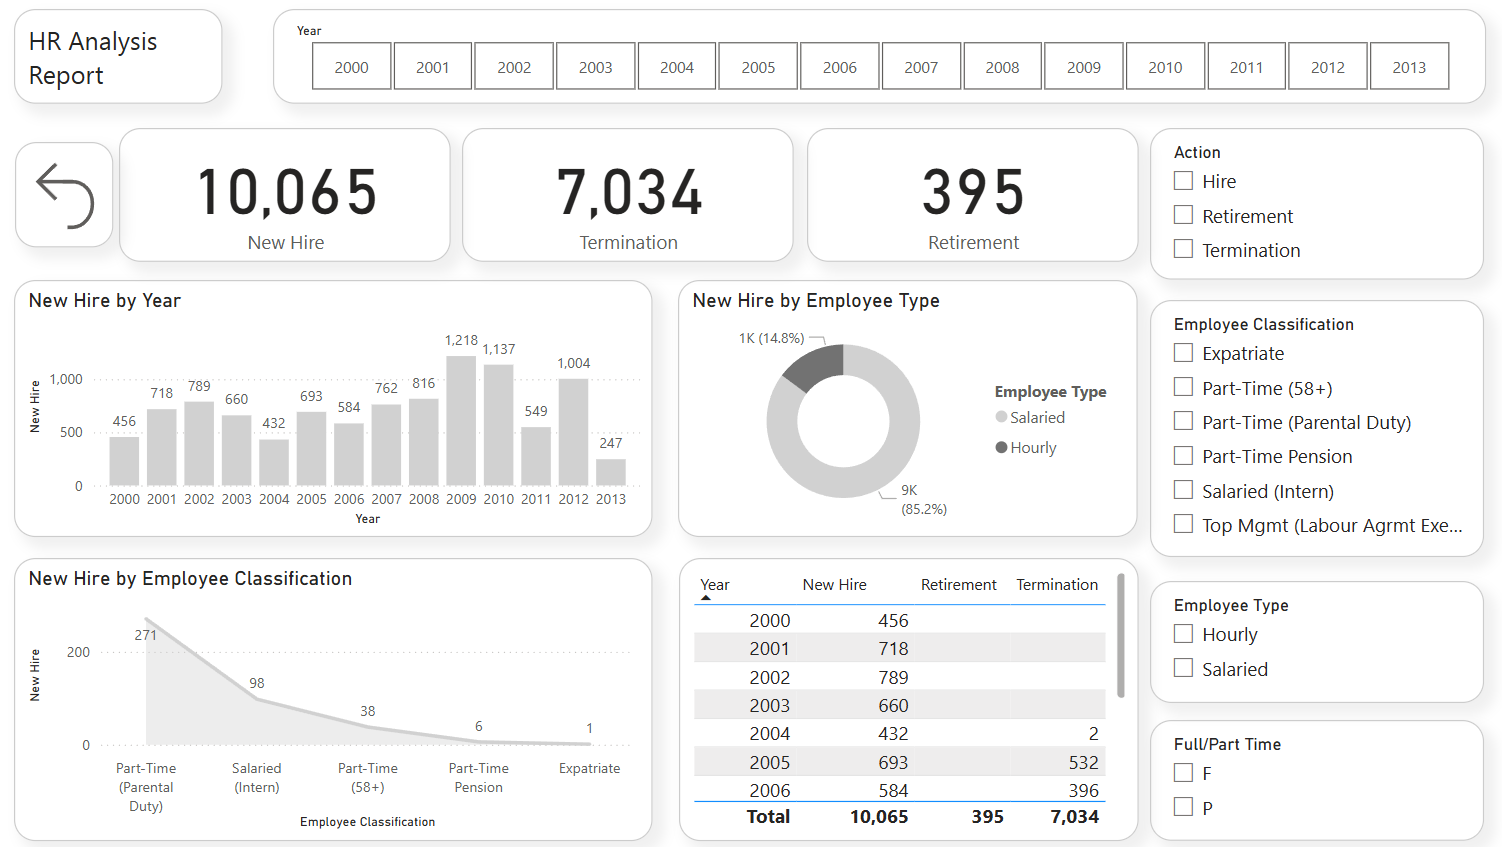

The page's visual inventory and layout, read from the dashboard file:
{"tool":"powerbi","page":{"name":"Summary","canvas":[1280,720],"ordinal":0},"visuals":[{"type":"card","fields":{"Values":["Table.New Hire"]},"box":[110.1,108.7,279.5,112.9],"z":0},{"type":"card","fields":{"Values":["Table.Termination"]},"box":[399.5,108.7,279.5,112.9],"z":1000},{"type":"card","fields":{"Values":["Table.Retirement"]},"box":[690.4,108.7,279.5,112.9],"z":2000},{"type":"slicer","fields":{"Values":["Final_Job.Action"]},"box":[979.8,108.7,282.4,128.5],"z":3000},{"type":"slicer","fields":{"Values":["Final_Job.Employee Classification"]},"box":[979.8,254.1,282.4,217.4],"z":4000},{"type":"slicer","fields":{"Values":["Final_Job.Employee Type"]},"box":[979.8,491.3,282.4,103.1],"z":5000},{"type":"slicer","fields":{"Values":["Final_Job.Full/Part Time"]},"box":[979.8,608.5,282.4,101.6],"z":6000},{"type":"slicer","fields":{"Values":["Final_Job.Effective Date.Variation.Date Hierarchy.Year"]},"box":[240,8.5,1023.5,80.5],"z":7000},{"type":"textbox","box":[21.2,8.5,176.5,80.5],"z":8000},{"type":"clusteredColumnChart","fields":{"Y":["Table.New Hire"],"Category":["Final_Job.Effective Date.Variation.Date Hierarchy.Year"]},"box":[21.2,237.2,539.3,217.4],"z":9000},{"type":"donutChart","fields":{"Y":["Table.New Hire"],"Category":["Final_Job.Employee Type"]},"box":[581.6,237.2,388.2,217.4],"z":10000},{"type":"areaChart","fields":{"Y":["Table.New Hire"],"Category":["Final_Job.Employee Classification"]},"box":[21.2,471.5,539.3,238.6],"z":11000},{"type":"tableEx","fields":{"Values":["Final_Job.Effective Date.Variation.Date Hierarchy.Year","Table.New Hire","Table.Retirement","Table.Termination"]},"box":[582,472,388,239],"z":12000},{"type":"actionButton","box":[21.8,120.7,82.9,88.7],"z":13000}]}

Visuals, with their boxes in screenshot pixels (x1, y1, x2, y2), scaled from the page's 1280x720 canvas onto the 1502x847 screenshot:
card - Table.New Hire: box=[129, 128, 457, 261]
card - Table.Termination: box=[469, 128, 797, 261]
card - Table.Retirement: box=[810, 128, 1138, 261]
slicer - Final_Job.Action: box=[1150, 128, 1481, 279]
slicer - Final_Job.Employee Classification: box=[1150, 299, 1481, 555]
slicer - Final_Job.Employee Type: box=[1150, 578, 1481, 699]
slicer - Final_Job.Full/Part Time: box=[1150, 716, 1481, 835]
slicer - Final_Job.Effective Date.Variation.Date Hierarchy.Year: box=[282, 10, 1483, 105]
textbox: box=[25, 10, 232, 105]
clusteredColumnChart - Table.New Hire x Final_Job.Effective Date.Variation.Date Hierarchy.Year: box=[25, 279, 658, 535]
donutChart - Table.New Hire x Final_Job.Employee Type: box=[682, 279, 1138, 535]
areaChart - Table.New Hire x Final_Job.Employee Classification: box=[25, 555, 658, 835]
tableEx - Final_Job.Effective Date.Variation.Date Hierarchy.Year x Table.New Hire: box=[683, 555, 1138, 836]
actionButton: box=[26, 142, 123, 246]
